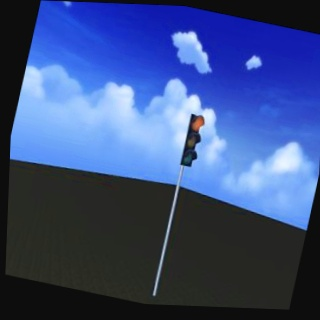sinalRed: (178, 111, 206, 171)
